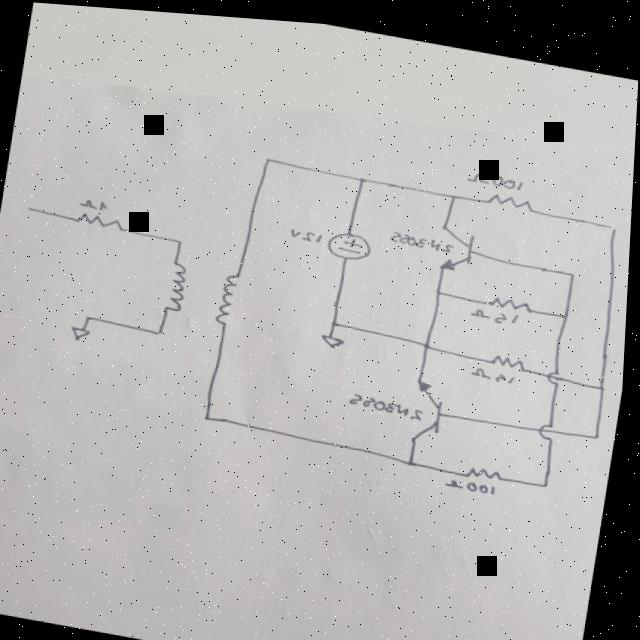crossover: (540, 411, 561, 434), (547, 358, 564, 378)
ground: (320, 326, 350, 345), (71, 322, 95, 340)
junction: (204, 407, 217, 419), (174, 232, 187, 243), (607, 212, 620, 223), (422, 332, 436, 342), (598, 373, 612, 382), (263, 148, 275, 158), (562, 301, 574, 311), (568, 259, 580, 269), (331, 311, 342, 321), (410, 449, 420, 460), (594, 421, 606, 430), (86, 309, 97, 318), (436, 279, 447, 288), (157, 324, 168, 332), (449, 185, 460, 193), (545, 471, 555, 478), (358, 169, 367, 176)
resistor: (481, 180, 539, 205), (75, 205, 129, 230), (487, 283, 539, 306), (467, 454, 509, 475), (491, 343, 533, 363)
source: (326, 221, 376, 257)
terminal: (20, 201, 41, 214)
text: (351, 384, 429, 413), (391, 222, 458, 246), (466, 160, 526, 182), (471, 296, 525, 318), (448, 468, 502, 488), (473, 357, 520, 375), (289, 220, 326, 240), (78, 192, 113, 210)
transformer: (159, 252, 248, 325)
transistor: (408, 371, 453, 436), (432, 215, 480, 266)
